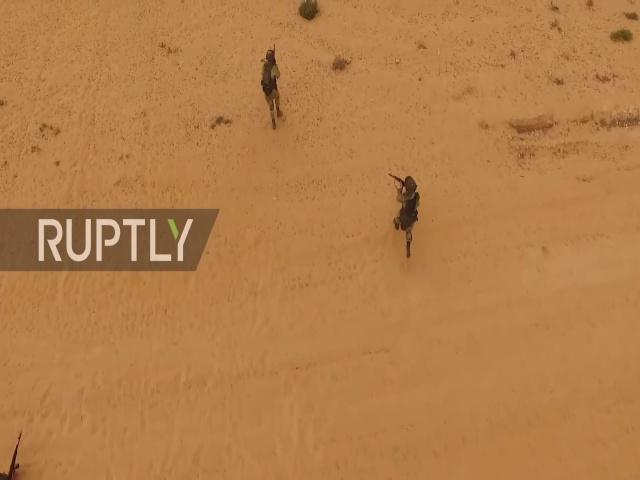person: (390, 170, 420, 261), (258, 42, 284, 130)
